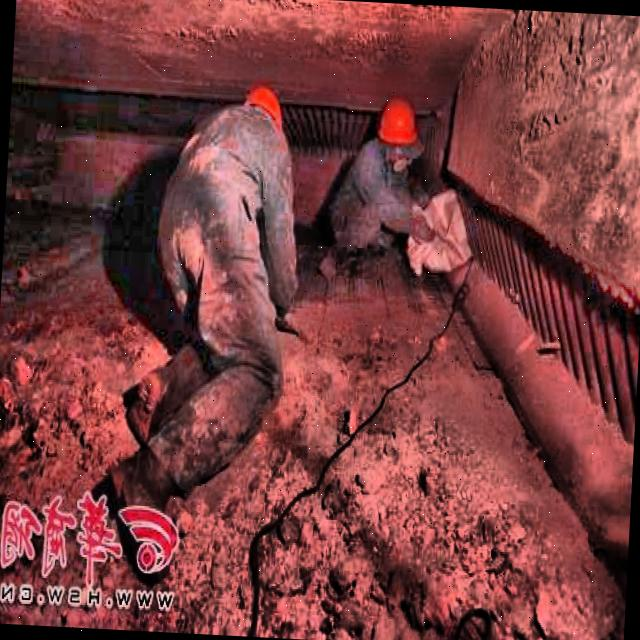helmet: (373, 94, 424, 172), (234, 78, 286, 149)
